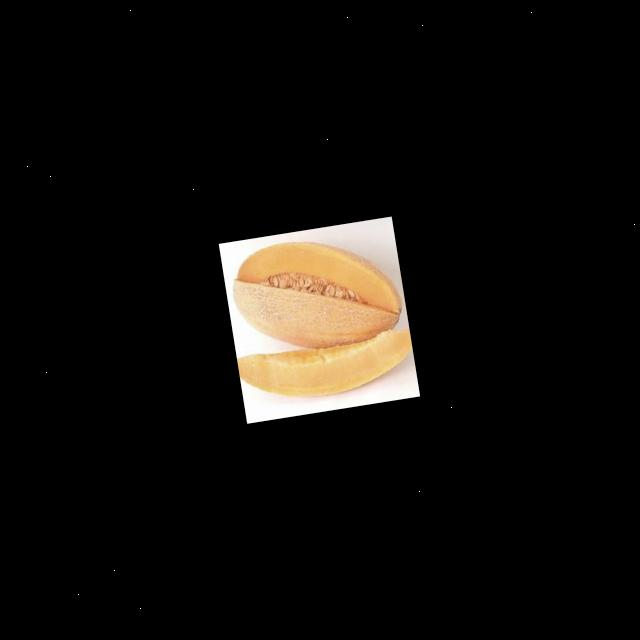Hami Melon: (226, 226, 411, 361), (237, 328, 418, 408)
